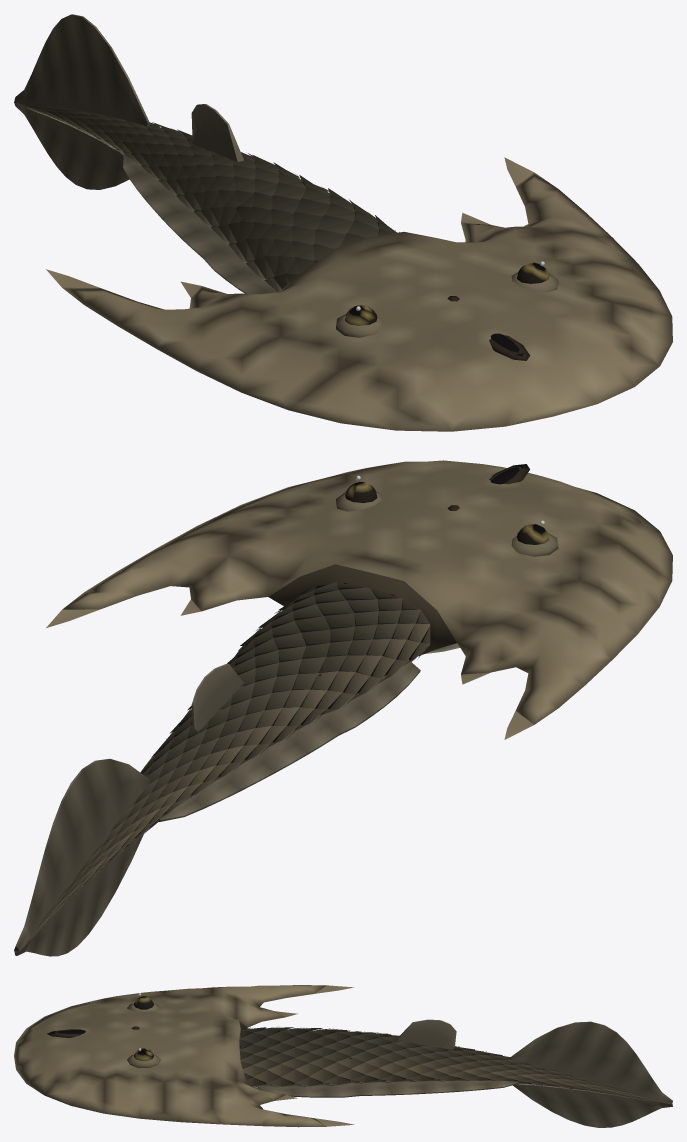
Rendered from Yongdongaspis.fbx.
3 renders of one model, top to bottom at view 1: azimuth 30°, elevation 25°; view 2: azimuth 150°, elevation 25°; view 3: azimuth 270°, elevation 25°, orthographic. The views are drawn at different scales.
Visible parts, largest first — view 1: Yongdongaspis; view 2: Yongdongaspis; view 3: Yongdongaspis.
Boxes of the visible parts, x1,y1,x2,y2 form: Yongdongaspis: (14, 14, 672, 431); Yongdongaspis: (14, 460, 672, 956); Yongdongaspis: (14, 985, 672, 1127).
Size of the model in its own units: 0.828 by 0.2932 by 1.62.
